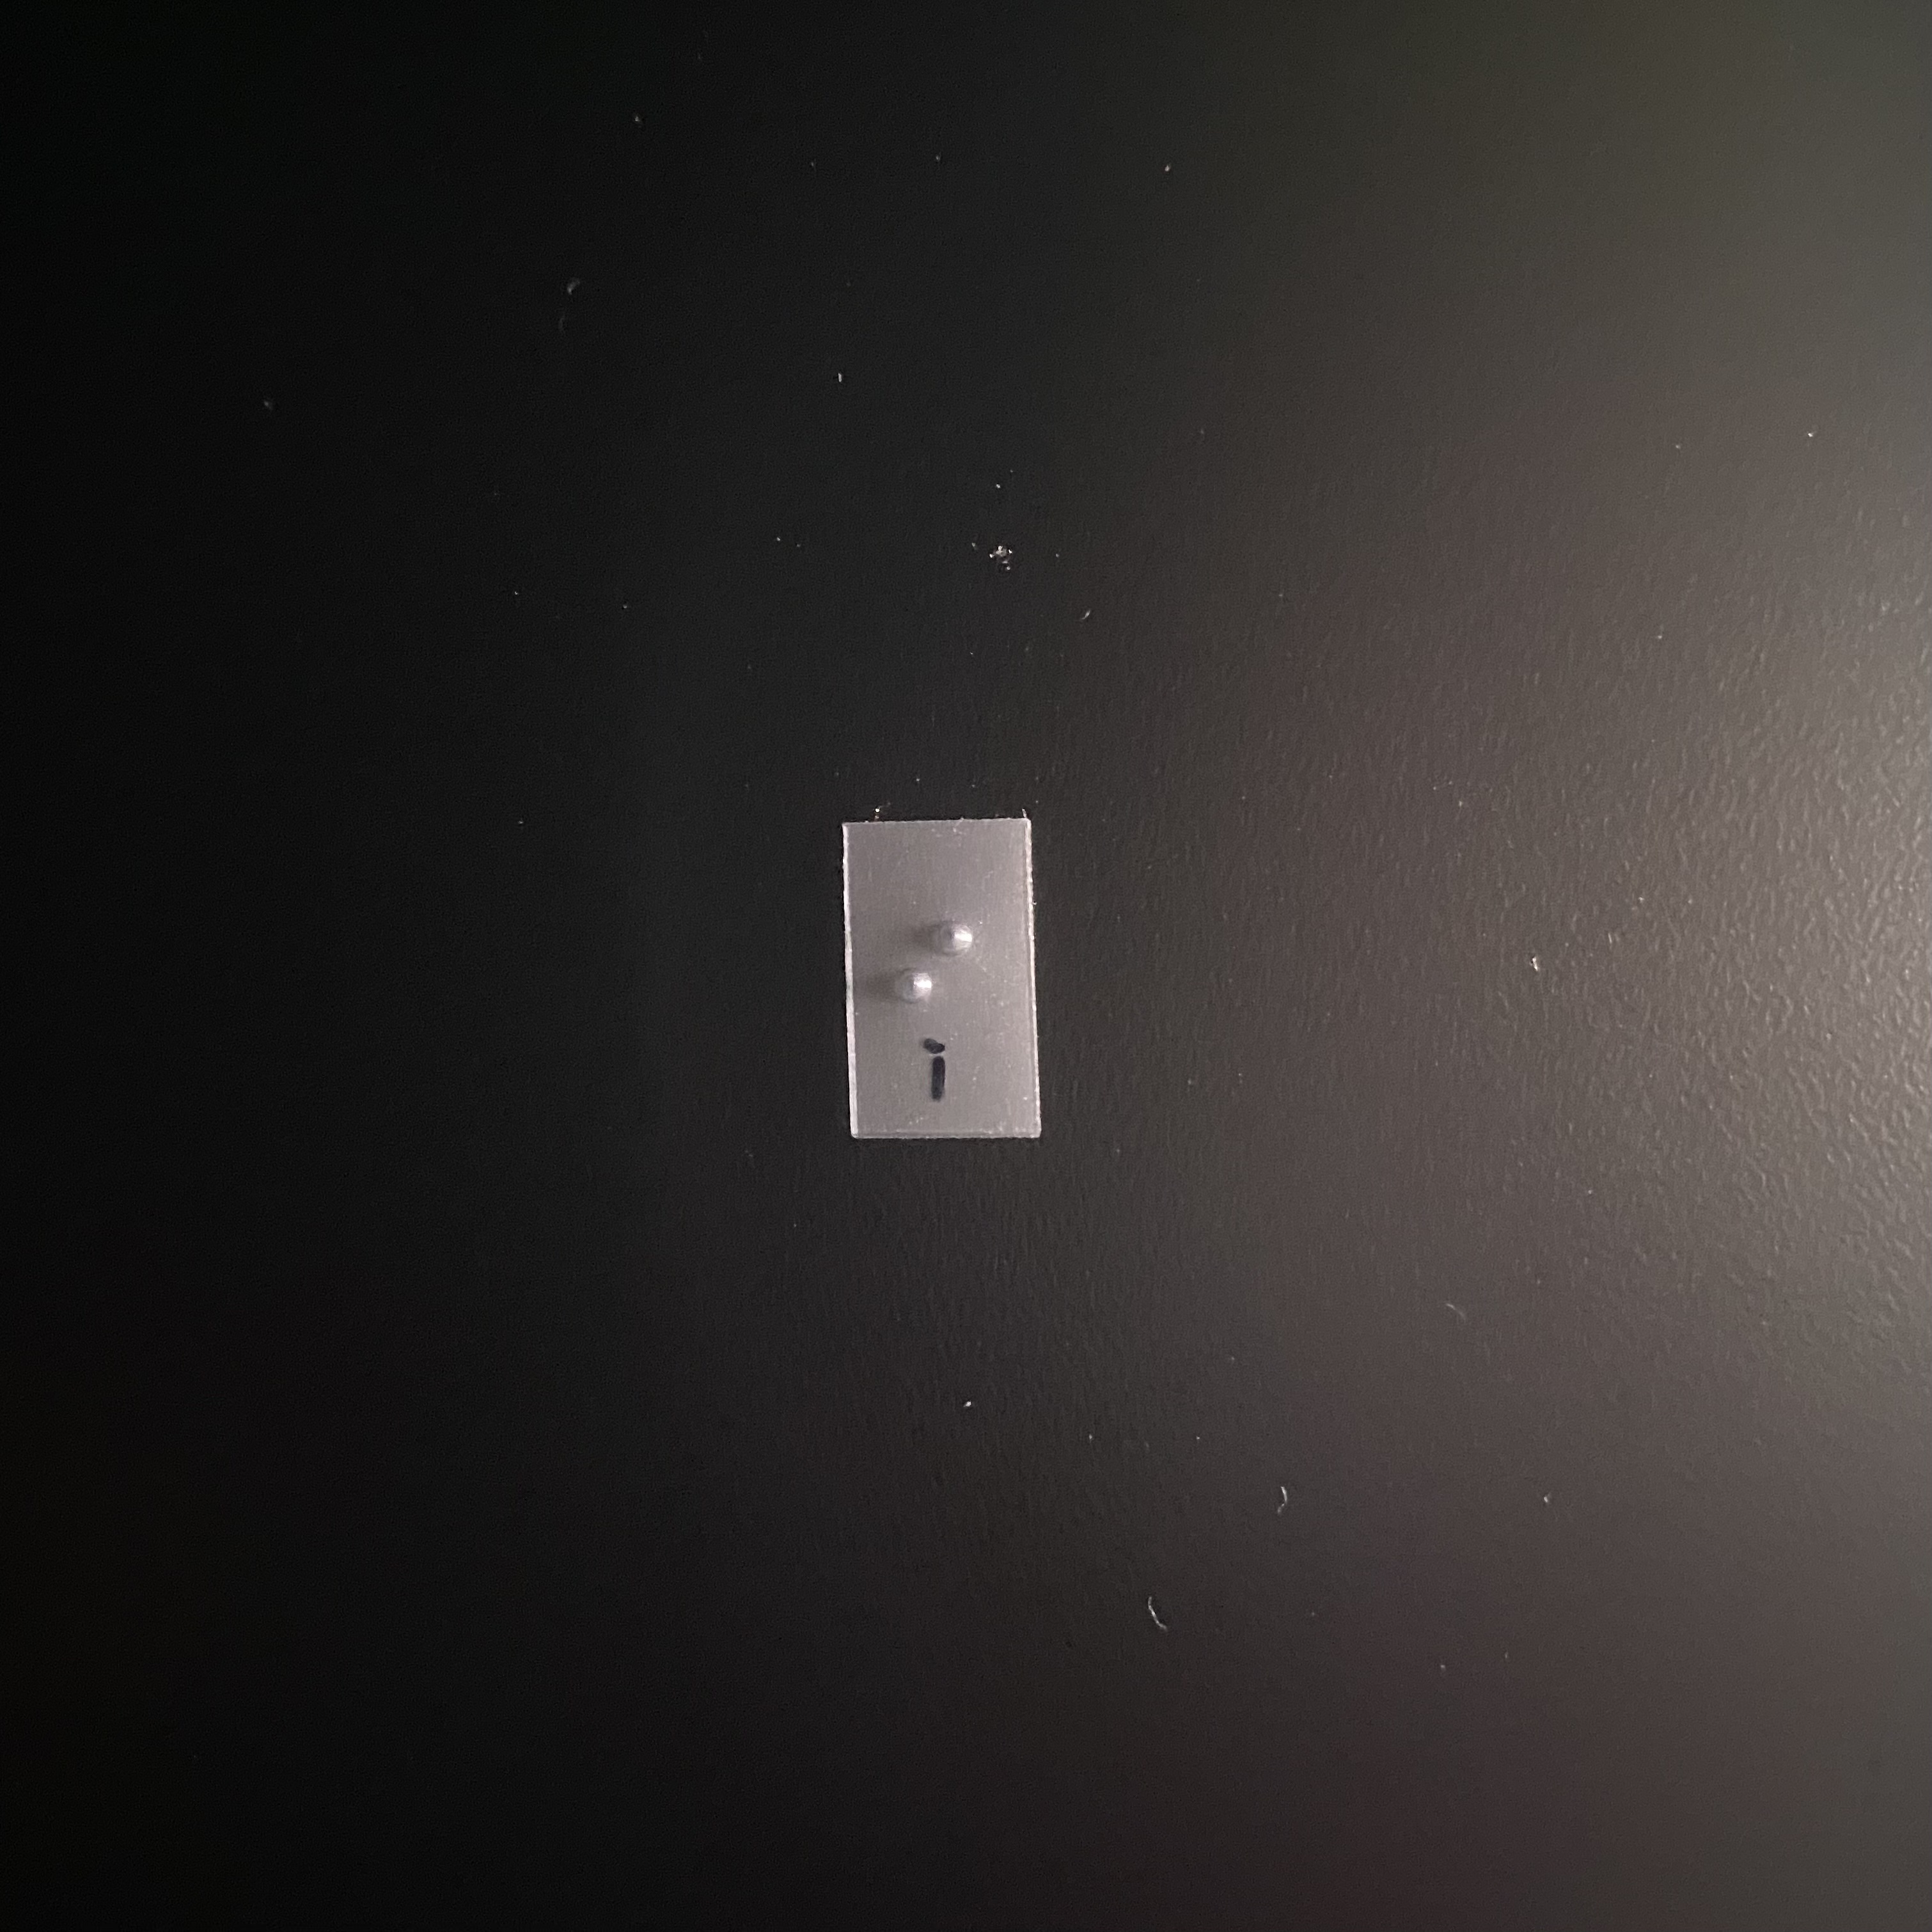i: (877, 911, 990, 1079)
